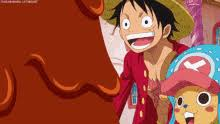chopper: (157, 45, 220, 124)
luffy: (102, 1, 197, 57)
